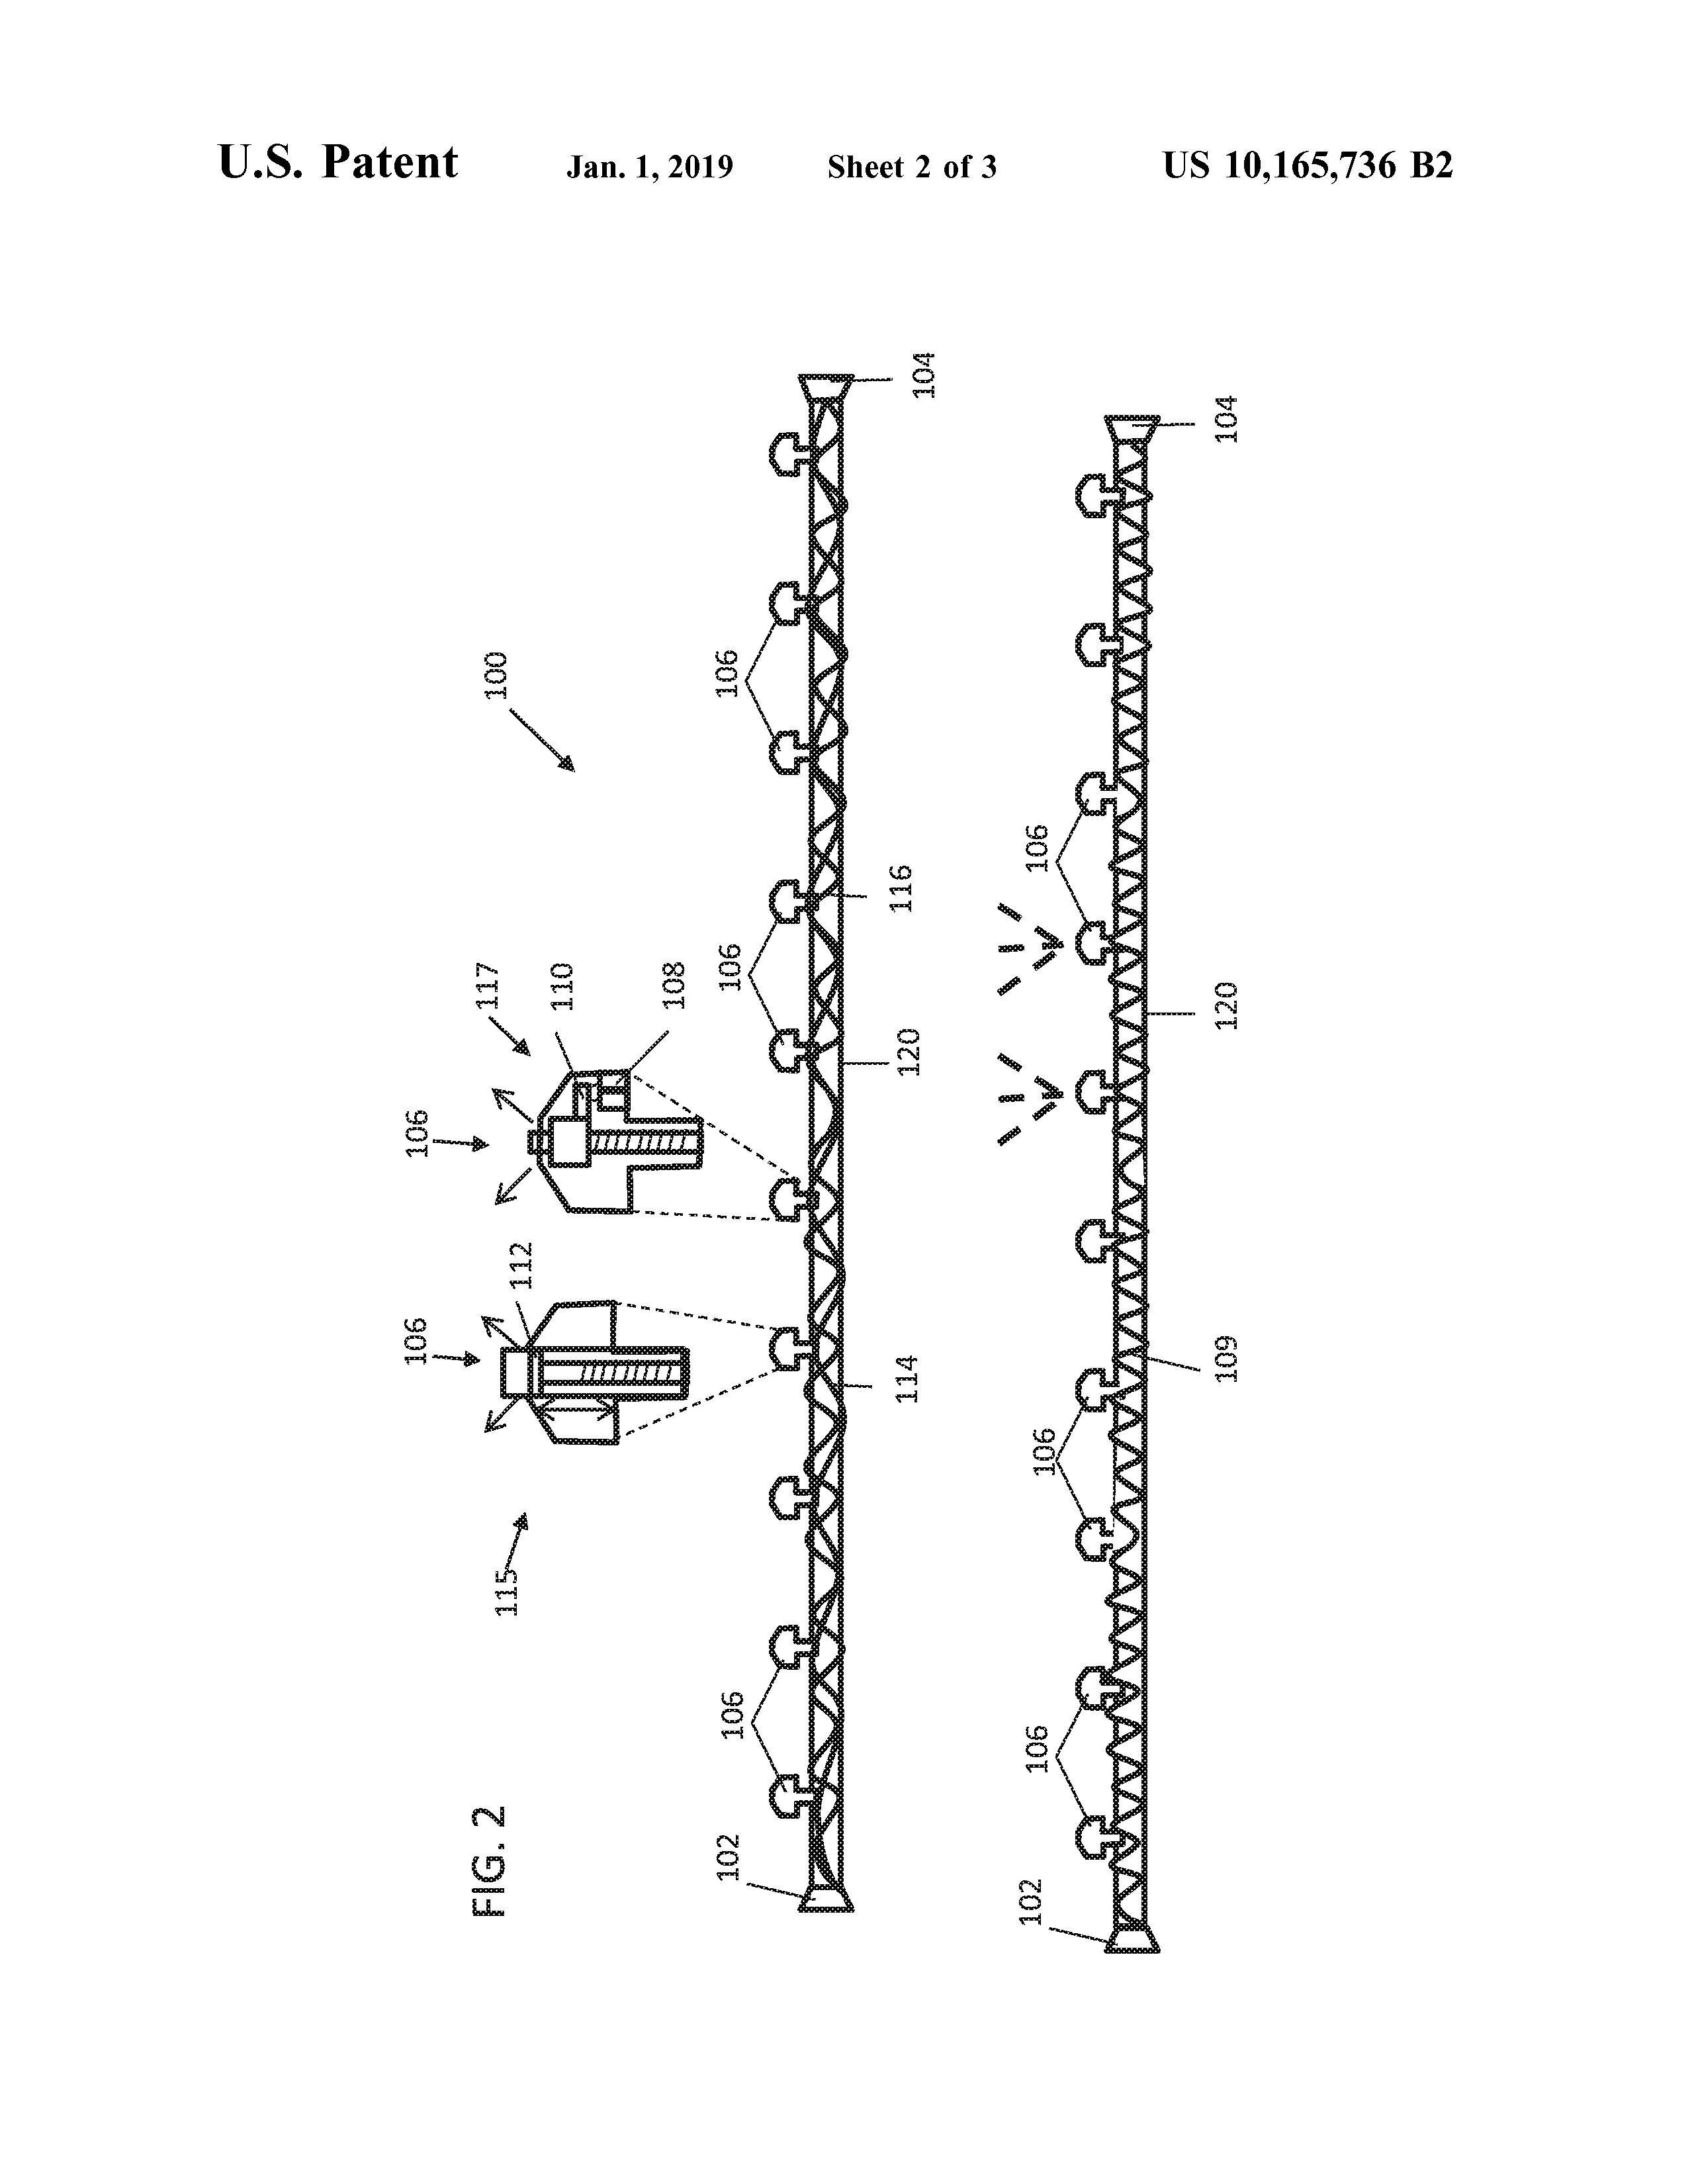patent image: (345, 325, 1380, 2026)
